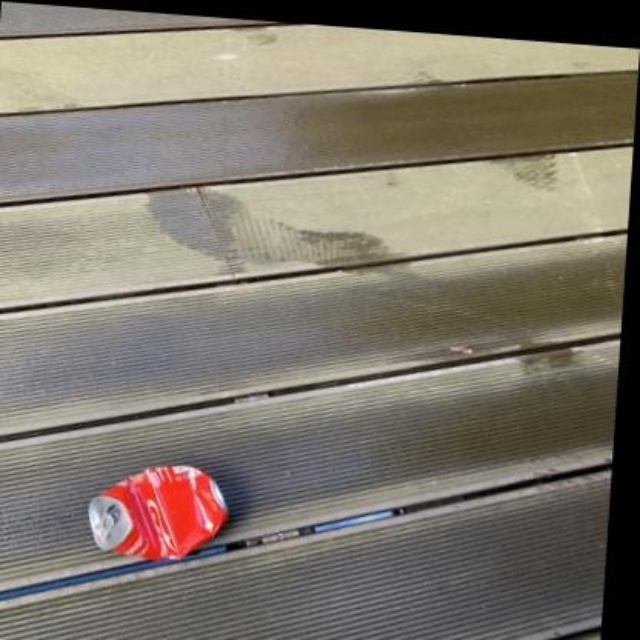trash: (88, 466, 226, 558)
